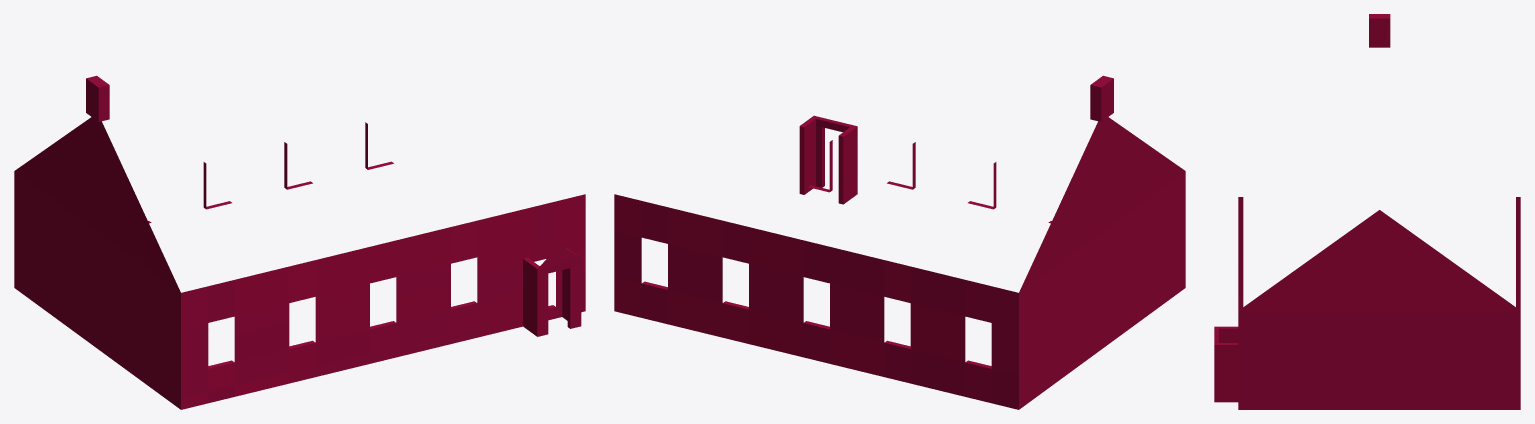
The model's file is SM_Bld_149_Masonry.glb.
The picture shows the model from 3 angles, left to right: view 1: azimuth 30°, elevation 25°; view 2: azimuth 150°, elevation 25°; view 3: azimuth 270°, elevation 25°; orthographic projection. The views are drawn at different scales.
Parts seen in each view (by area): view 1: SM_Bld_149_Masonry; view 2: SM_Bld_149_Masonry; view 3: SM_Bld_149_Masonry.
Part boxes in pixels (x1,y1,x2,y2): SM_Bld_149_Masonry: [14, 75, 585, 409]; SM_Bld_149_Masonry: [614, 75, 1185, 409]; SM_Bld_149_Masonry: [1214, 14, 1520, 409].
Size of the model in its own units: 18.68 by 11.64 by 14.28.
